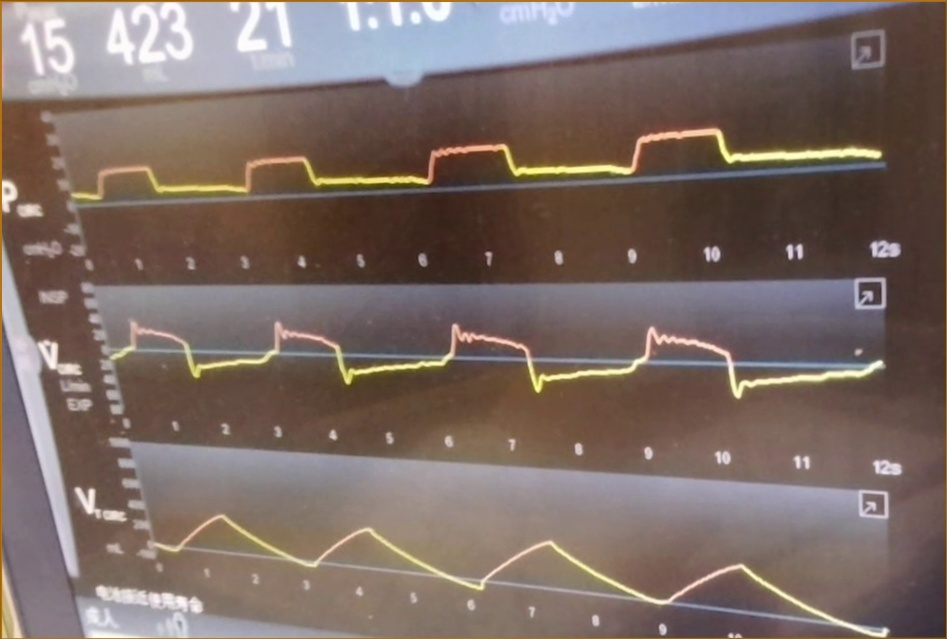Accumulation Flow: (108, 301, 872, 416)
Volume: (152, 473, 893, 634)
